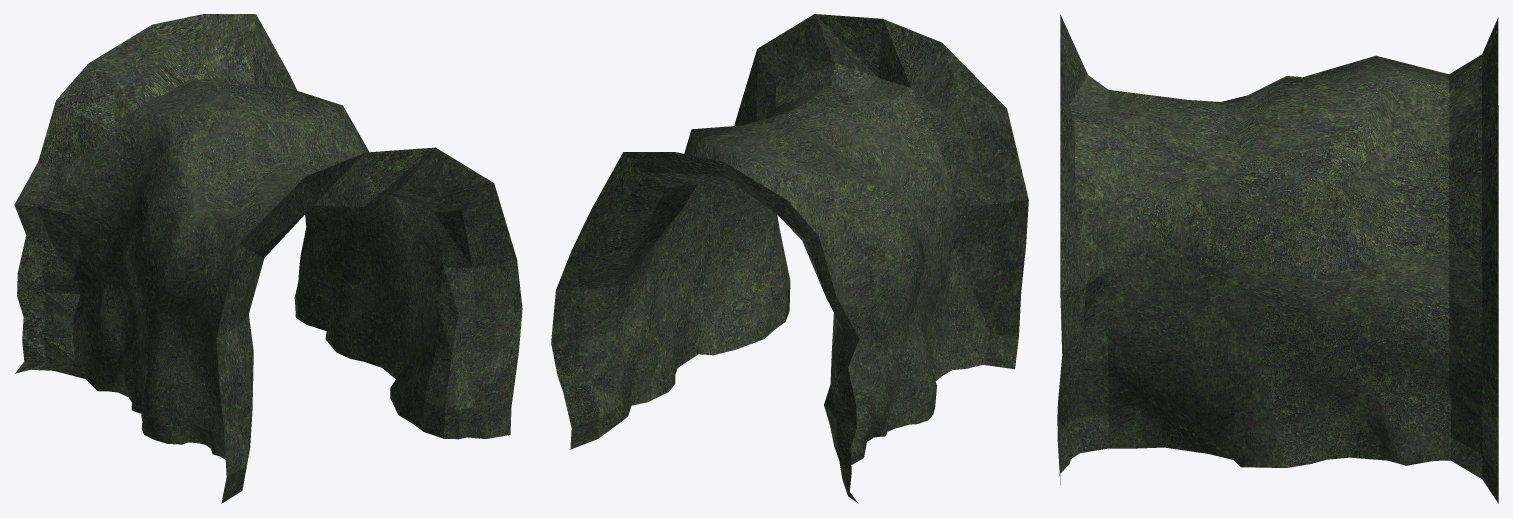
The model's file is cliff_tunnel_01.fbx.
3 renders of one model, left to right at view 1: azimuth 30°, elevation 25°; view 2: azimuth 150°, elevation 25°; view 3: azimuth 270°, elevation 25°, orthographic. The views are drawn at different scales.
Parts seen in each view (by area): view 1: cliff_tunnel_01; view 2: cliff_tunnel_01; view 3: cliff_tunnel_01.
Part boxes in pixels (x1=…): cliff_tunnel_01: x1=14, y1=14, x2=522, y2=503; cliff_tunnel_01: x1=551, y1=14, x2=1028, y2=503; cliff_tunnel_01: x1=1057, y1=14, x2=1498, y2=503.
Bounding box in the file's own units: 75.99 × 75.77 × 77.39.
